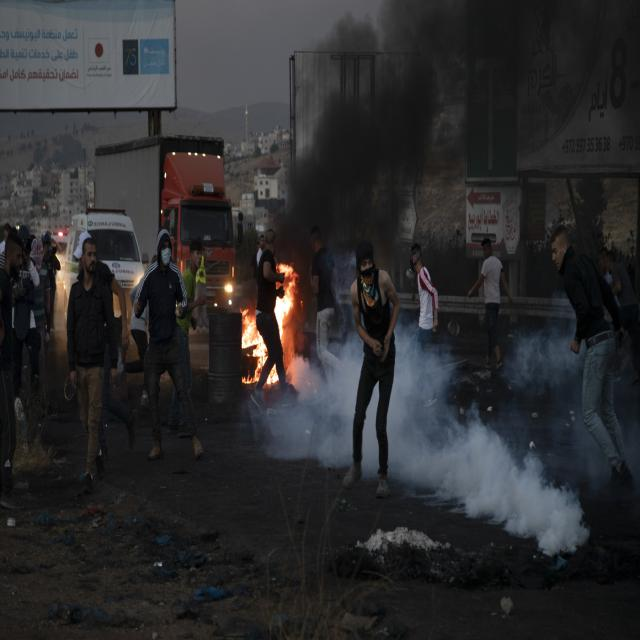fire: (240, 259, 301, 391)
smoke: (452, 412, 583, 556), (391, 328, 444, 487), (314, 336, 353, 470)
